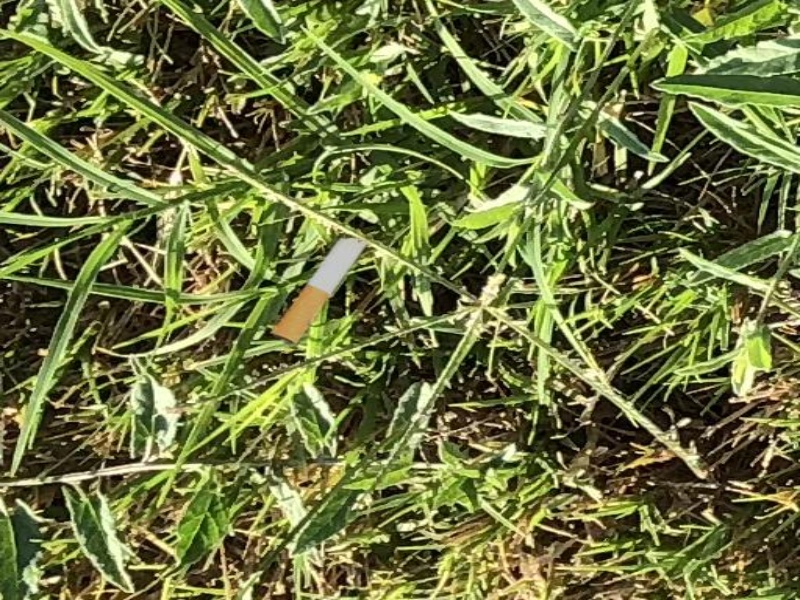cig: (267, 220, 372, 351)
